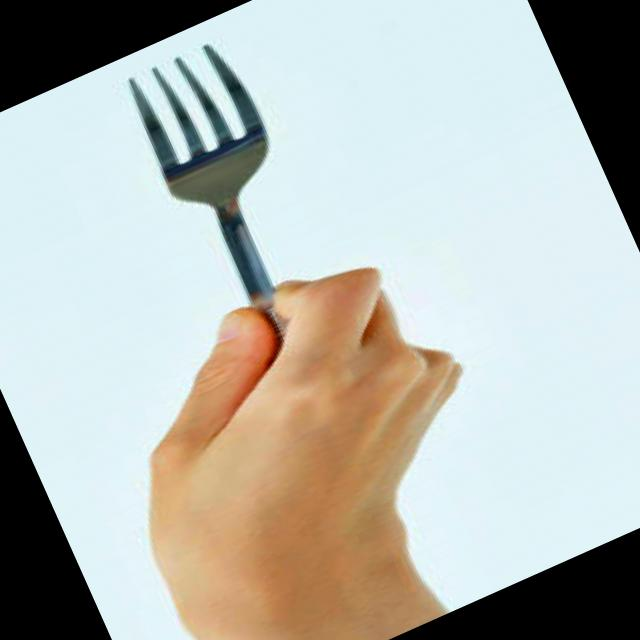fork: (107, 27, 368, 389)
